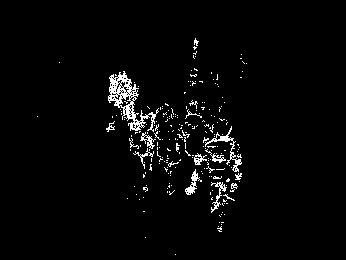person: (202, 121, 244, 230), (153, 102, 183, 199), (183, 100, 210, 201), (128, 102, 156, 183), (109, 71, 136, 137)
